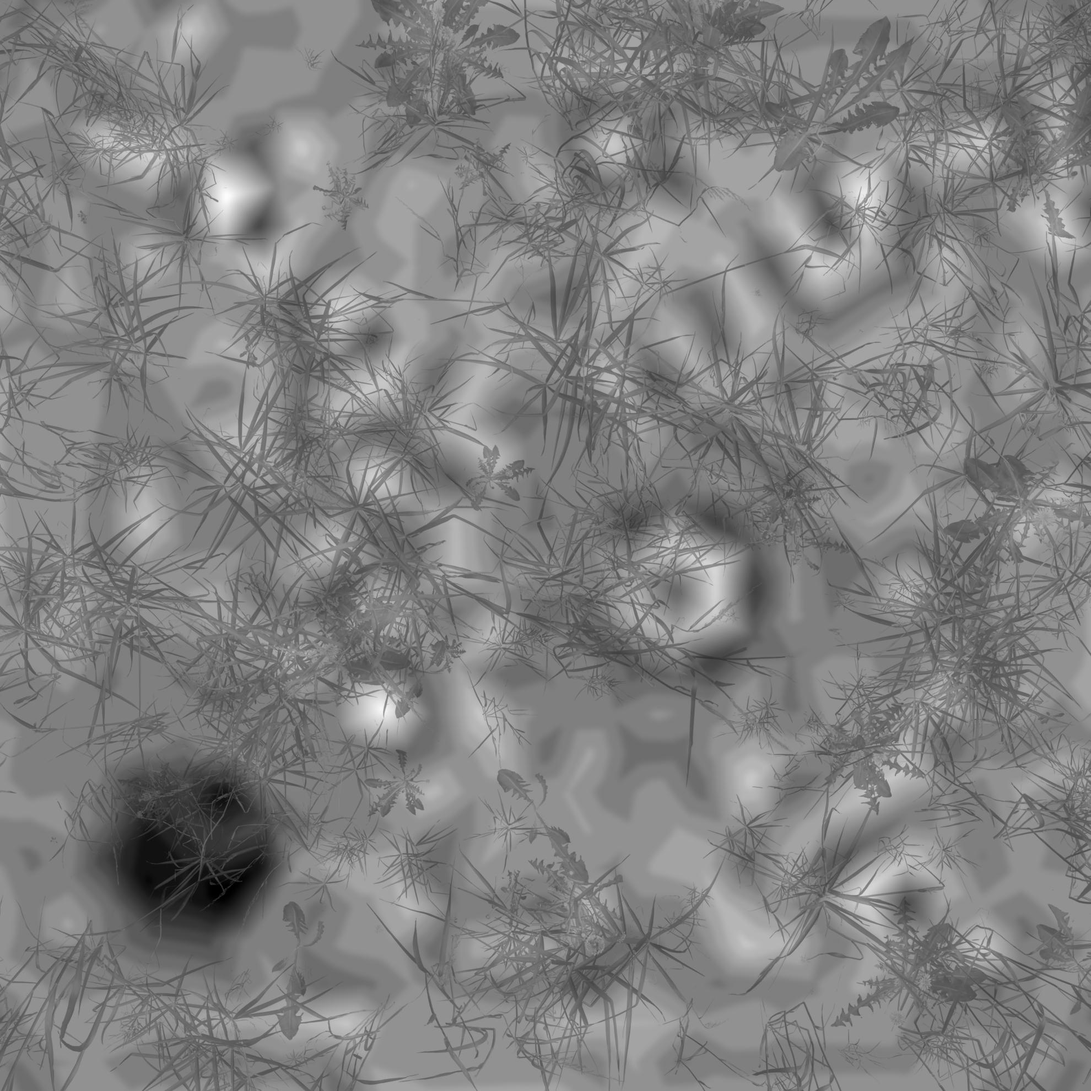landmine: (585, 501, 768, 683), (95, 762, 287, 933)
